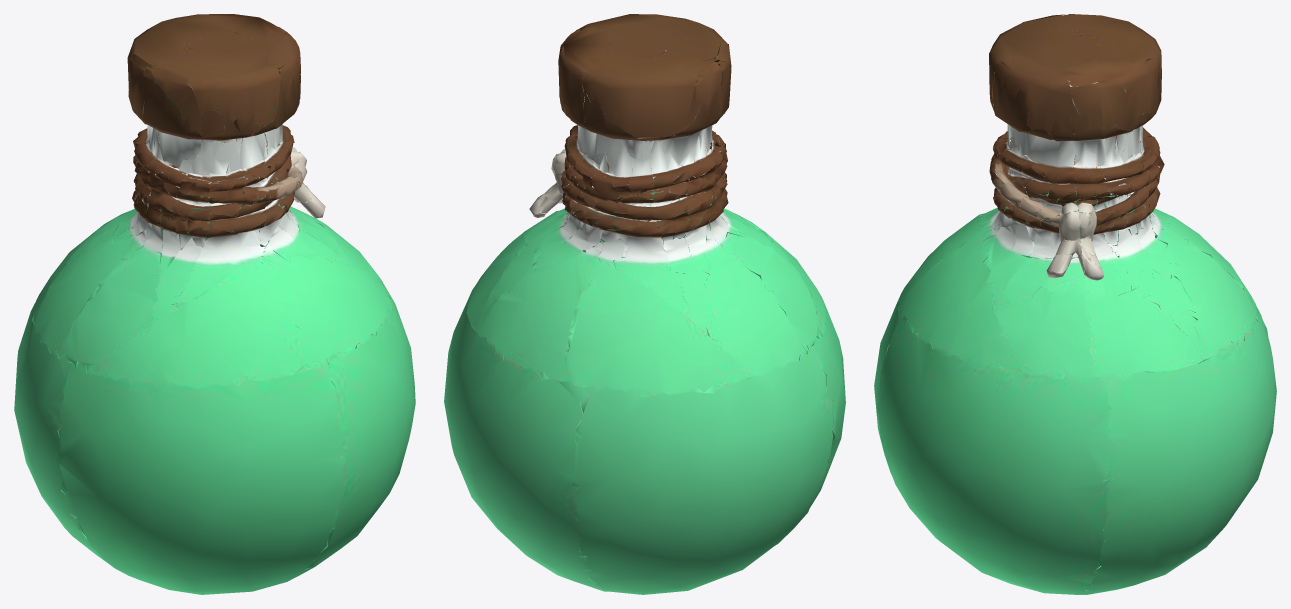
Rendered from tonic.glb.
3 views of the same model, side by side, from view 1: azimuth 30°, elevation 25°; view 2: azimuth 150°, elevation 25°; view 3: azimuth 270°, elevation 25° (orthographic).
Visible parts, largest first — view 1: Mesh_0; view 2: Mesh_0; view 3: Mesh_0.
Boxes of the visible parts, left/top/right/bottom form: Mesh_0: left=14, top=14, right=415, bottom=594; Mesh_0: left=444, top=14, right=845, bottom=594; Mesh_0: left=874, top=14, right=1276, bottom=594.
Bounding box in the file's own units: 0.3443 × 0.5 × 0.3444.
1 material, 1 textured.
